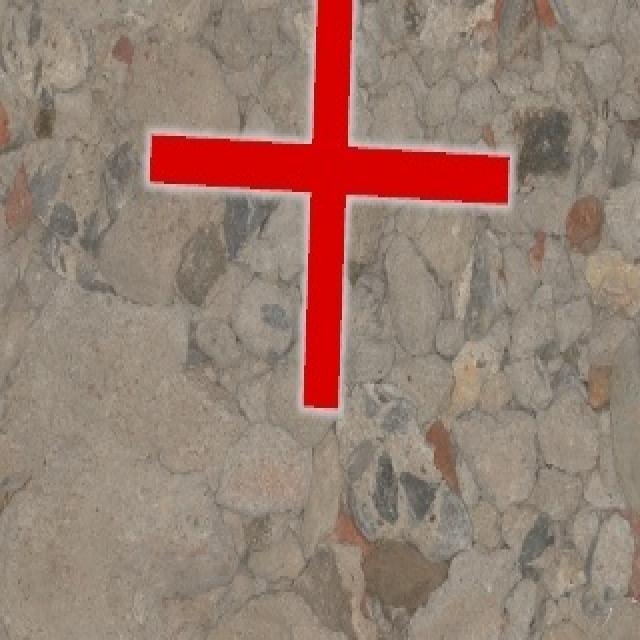x_marker: (147, 0, 509, 411)
